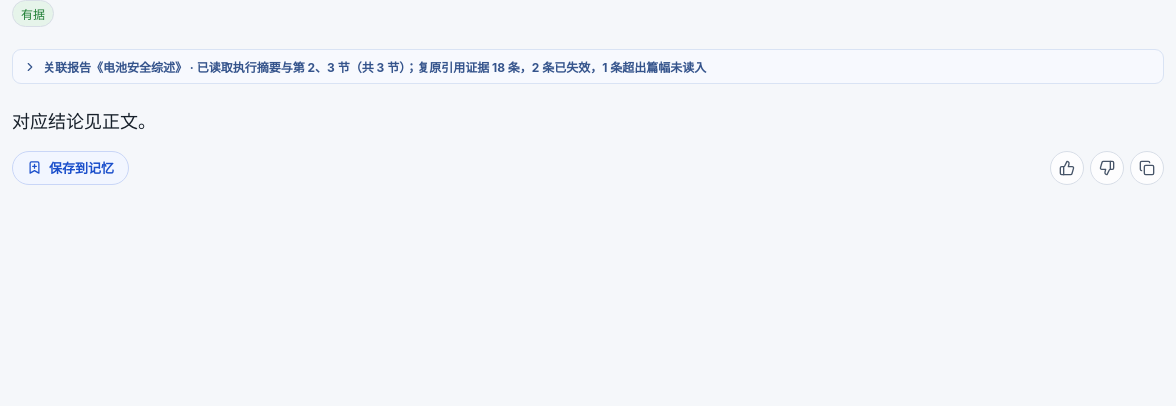
Test: 读入了部分章节：摘要一句说清，展开逐节列出读入与否和引用证据计数
Click the heading "关联报告《电池安全综述》 · 已读取执行摘要与第 2、3 节（共 3 节）；复原引用证据 18 条，2 条已失效，1 条超出篇幅未读入": [365, 67] box [23, 60, 706, 75]
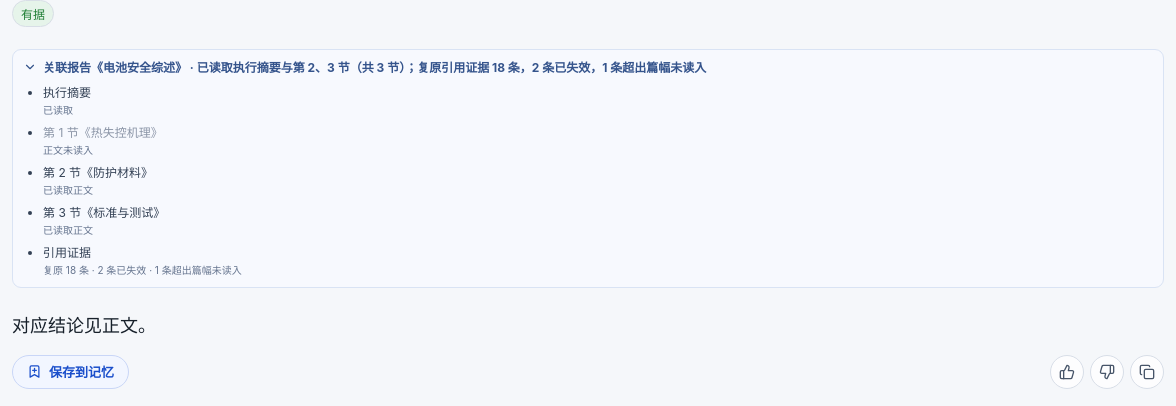
expect the text "执行摘要" is shown: met, box [43, 85, 91, 100]
expect the text "已读取" is shown: met, box [43, 104, 73, 116]
expect the text "正文未读入" is shown: met, box [43, 144, 93, 156]
